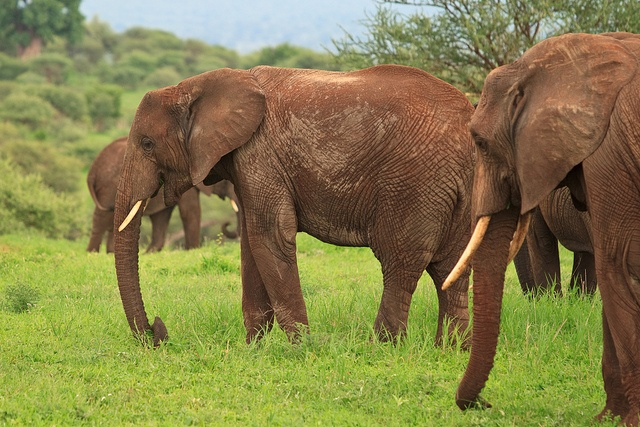elephant: (110, 63, 474, 349), (440, 29, 639, 425)
